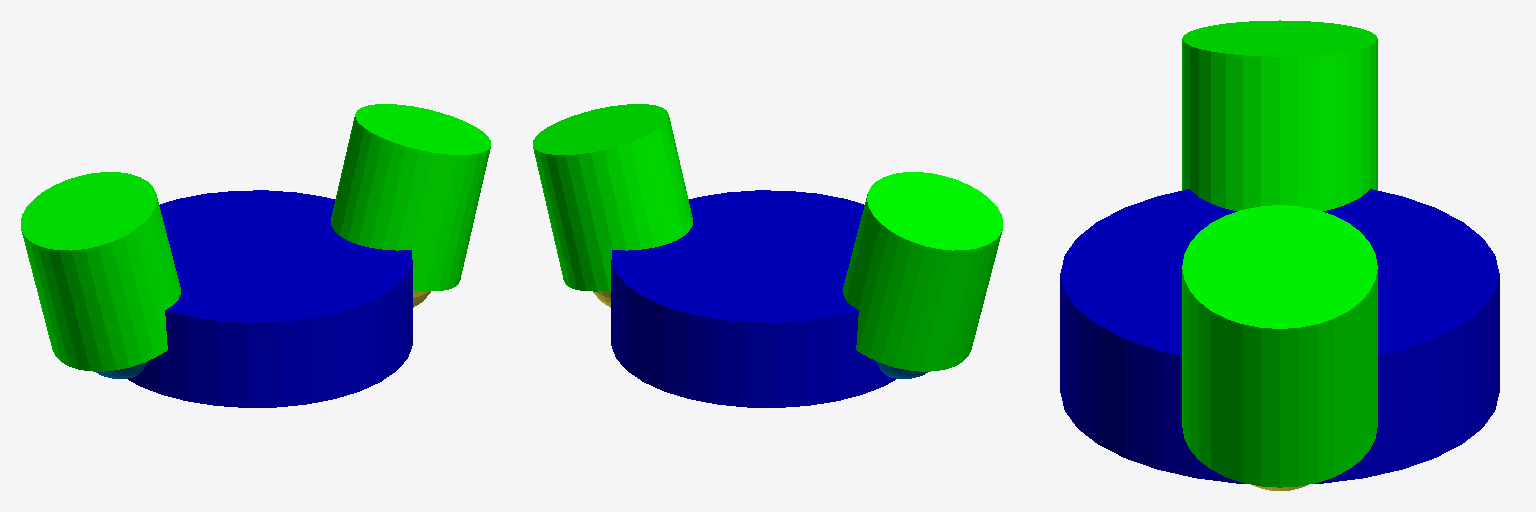
robot.urdf — gripper_2f_1j:
<?xml version='1.0' encoding='UTF-8'?>
<robot name="gripper_2f_1j">
  <link name="palm">
    <inertial>
      <origin xyz="0.0 0.0 0.0" rpy="0.0 -0.0 0.0"/>
      <mass value="1.0"/>
      <inertia ixx="1.0" ixy="0.0" ixz="0.0" iyy="1.0" iyz="0.0" izz="1.0"/>
    </inertial>
    <visual>
      <geometry>
        <cylinder radius="0.05" length="0.03"/>
      </geometry>
      <material name="blue"/>
      <origin xyz="0.0 0.0 0.0" rpy="0.0 -0.0 0.0"/>
    </visual>
    <collision>
      <geometry>
        <cylinder radius="0.05" length="0.03"/>
      </geometry>
      <origin xyz="0.0 0.0 0.0" rpy="0.0 0.0 0.0"/>
    </collision>
  </link>
  <link name="f11">
    <inertial>
      <origin xyz="0.0 0.0 0.0" rpy="0.0 -0.0 0.0"/>
      <mass value="1.0"/>
      <inertia ixx="1.0" ixy="0.0" ixz="0.0" iyy="1.0" iyz="0.0" izz="1.0"/>
    </inertial>
    <visual>
      <geometry>
        <cylinder radius="0.022272422937923097" length="0.04671896175161852"/>
      </geometry>
      <material name="green"/>
      <origin xyz="0.0 0.0 0.02335948087580926" rpy="0.0 -0.0 0.0"/>
    </visual>
    <collision>
      <geometry>
        <cylinder radius="0.022272422937923097" length="0.04671896175161852"/>
      </geometry>
      <origin xyz="0.0 0.0 0.05" rpy="0.0 0.0 0.0"/>
    </collision>
  </link>
  <link name="f21">
    <inertial>
      <origin xyz="0.0 0.0 0.0" rpy="0.0 -0.0 0.0"/>
      <mass value="1.0"/>
      <inertia ixx="1.0" ixy="0.0" ixz="0.0" iyy="1.0" iyz="0.0" izz="1.0"/>
    </inertial>
    <visual>
      <geometry>
        <cylinder radius="0.022272422937923097" length="0.04671896175161852"/>
      </geometry>
      <material name="green"/>
      <origin xyz="0.0 0.0 0.02335948087580926" rpy="0.0 -0.0 0.0"/>
    </visual>
    <collision>
      <geometry>
        <cylinder radius="0.022272422937923097" length="0.04671896175161852"/>
      </geometry>
      <origin xyz="0.0 0.0 0.05" rpy="0.0 0.0 0.0"/>
    </collision>
  </link>
  <link name="f11_base">
    <inertial>
      <origin xyz="0.0 0.0 0.0" rpy="0.0 -0.0 0.0"/>
      <mass value="1.0"/>
      <inertia ixx="1.0" ixy="0.0" ixz="0.0" iyy="1.0" iyz="0.0" izz="1.0"/>
    </inertial>
    <visual>
      <geometry>
        <sphere radius="0.015"/>
      </geometry>
      <origin xyz="0.0 0.0 0.0" rpy="0.0 -0.0 0.0"/>
    </visual>
  </link>
  <link name="f21_base">
    <inertial>
      <origin xyz="0.0 0.0 0.0" rpy="0.0 -0.0 0.0"/>
      <mass value="1.0"/>
      <inertia ixx="1.0" ixy="0.0" ixz="0.0" iyy="1.0" iyz="0.0" izz="1.0"/>
    </inertial>
    <visual>
      <geometry>
        <sphere radius="0.015"/>
      </geometry>
      <origin xyz="0.0 0.0 0.0" rpy="0.0 -0.0 0.0"/>
    </visual>
  </link>
  <joint name="f11_joint" type="revolute">
    <dynamics damping="100.0" friction="1.0"/>
    <limit effort="30.0" velocity="2.0" lower="-0.6" upper="0.25"/>
    <parent link="f11_base"/>
    <child link="f11"/>
    <axis xyz="0. 1. 0."/>
    <origin xyz="0.0 0.0 0.0" rpy="0.0 0.25 0.0"/>
  </joint>
  <joint name="f21_joint" type="revolute">
    <dynamics damping="100.0" friction="1.0"/>
    <limit effort="30.0" velocity="2.0" lower="-0.6" upper="0.25"/>
    <parent link="f21_base"/>
    <child link="f21"/>
    <axis xyz=" 0. -1.  0."/>
    <origin xyz="0.0 0.0 0.0" rpy="0.0 -0.25 0.0"/>
  </joint>
  <joint name="f11_base_joint" type="fixed">
    <parent link="palm"/>
    <child link="f11_base"/>
    <axis xyz="1. 0. 0."/>
    <origin xyz="0.05 0.0 0.0" rpy="0.0 0.0 0.0"/>
  </joint>
  <joint name="f21_base_joint" type="fixed">
    <parent link="palm"/>
    <child link="f21_base"/>
    <axis xyz="1. 0. 0."/>
    <origin xyz="-0.05 -0.0 0.0" rpy="0.0 0.0 0.0"/>
  </joint>
  <material name="blue">
    <color rgba="0.  0.  0.8 1. "/>
  </material>
  <material name="green">
    <color rgba="0. 1. 0. 1."/>
  </material>
</robot>

--- What the picture shows (computed from the rendered views, not written in the file) ---
Views: 3 orthographic renders of the robot side by side, from view 1: azimuth 30°, elevation 25°; view 2: azimuth 150°, elevation 25°; view 3: azimuth 270°, elevation 25°.
Robot: gripper_2f_1j — 5 links, 4 joints (2 revolute, 2 fixed); root link palm; default pose: all joints at 0.
Links seen in each view (by area): view 1: palm, f21, f11; view 2: palm, f21, f11; view 3: palm, f11, f21.
Boxes of the visible links, x1,y1,x2,y2 form: palm: (128,190,412,407); f21: (21,172,180,371); f11: (331,104,490,291); palm: (611,190,895,407); f21: (843,172,1002,371); f11: (533,104,692,291); palm: (1060,189,1499,483); f11: (1182,205,1377,487); f21: (1182,20,1377,211).
Bounding box of the posed robot: 0.1663 × 0.1 × 0.0658 m (x, y, z).
Geometry: primitives only (box / cylinder / sphere), no mesh files.